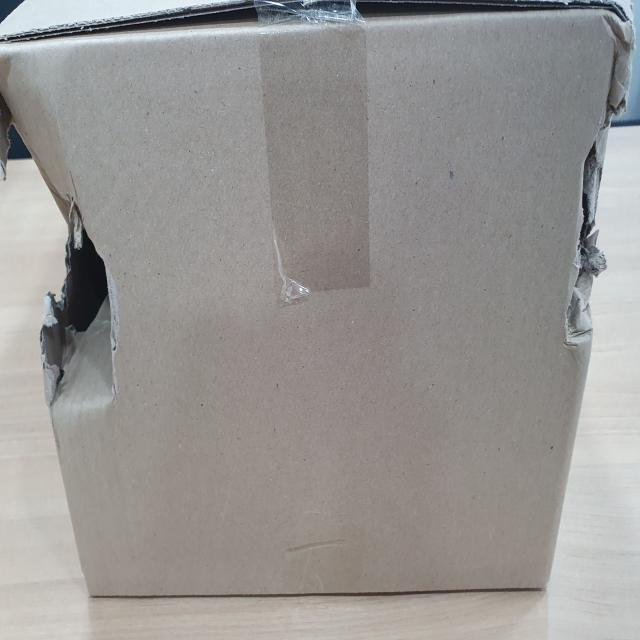hole: (0, 37, 122, 407), (560, 27, 626, 339)
